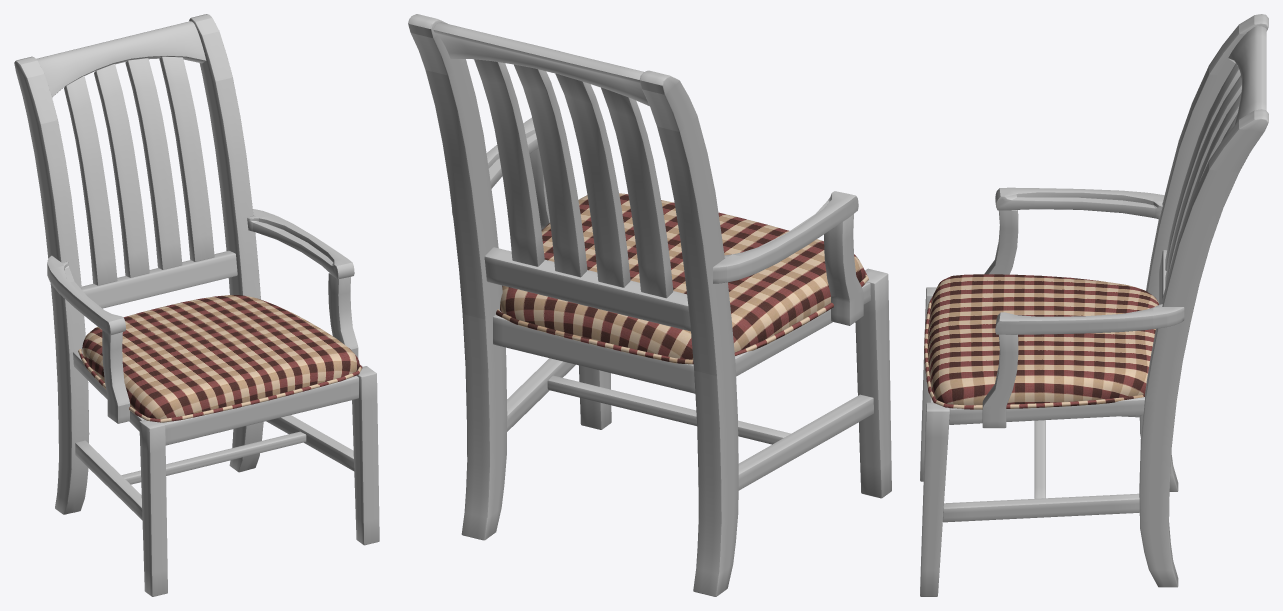
The model's file is Dining_Chair.fbx.
The picture shows the model from 3 angles, left to right: view 1: azimuth 30°, elevation 25°; view 2: azimuth 150°, elevation 25°; view 3: azimuth 270°, elevation 25°; orthographic projection. The views are drawn at different scales.
Visible parts, largest first — view 1: Chair, ChairTop; view 2: Chair, ChairTop; view 3: Chair, ChairTop.
Boxes of the visible parts, x1,y1,x2,y2 form: Chair: (14, 14, 379, 596); ChairTop: (78, 295, 362, 422); Chair: (408, 14, 891, 596); ChairTop: (496, 193, 868, 364); Chair: (920, 14, 1268, 596); ChairTop: (924, 274, 1158, 409).
Bounding box in the file's own units: 0.5956 × 0.9761 × 0.6575.
